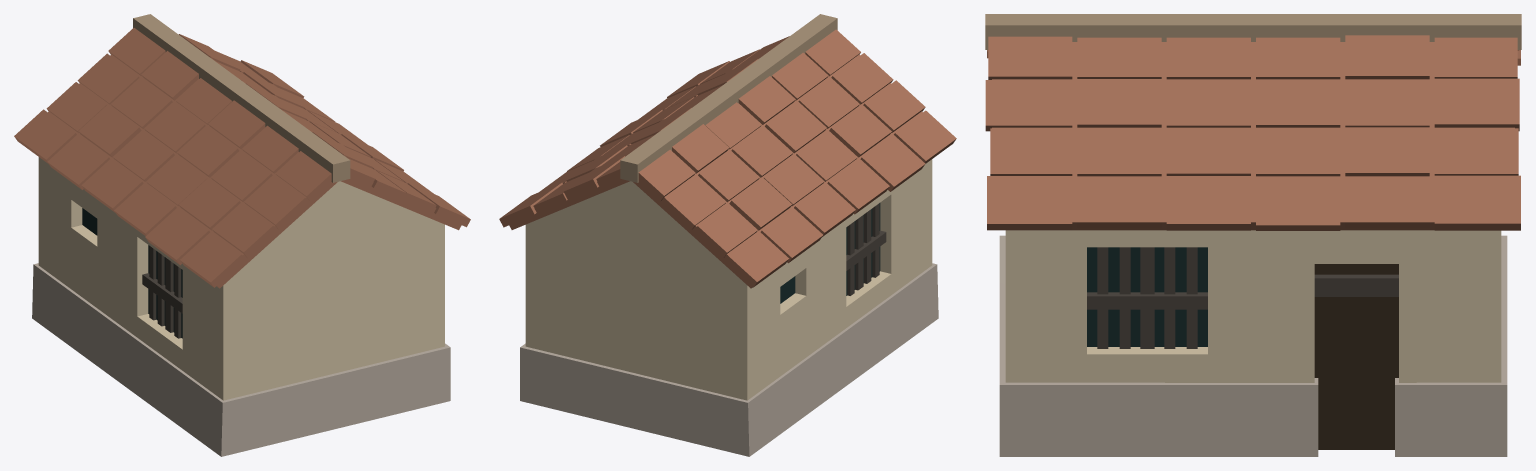
Rendered from Building_mode_L2_Northhouse004.fbx.
3 views of the same model, side by side, from view 1: azimuth 30°, elevation 25°; view 2: azimuth 150°, elevation 25°; view 3: azimuth 270°, elevation 25° (orthographic). The views are drawn at different scales.
Visible parts, largest first — view 1: Building_mode_L2_Northhouse004; view 2: Building_mode_L2_Northhouse004; view 3: Building_mode_L2_Northhouse004.
Boxes of the visible parts, <box> form: Building_mode_L2_Northhouse004: <box>14,14,470,456</box>; Building_mode_L2_Northhouse004: <box>499,14,956,456</box>; Building_mode_L2_Northhouse004: <box>985,14,1521,456</box>.
Size of the model in its own units: 2.86 by 2.83 by 3.79.
